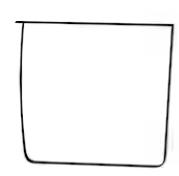Square: (0, 1, 179, 176)
